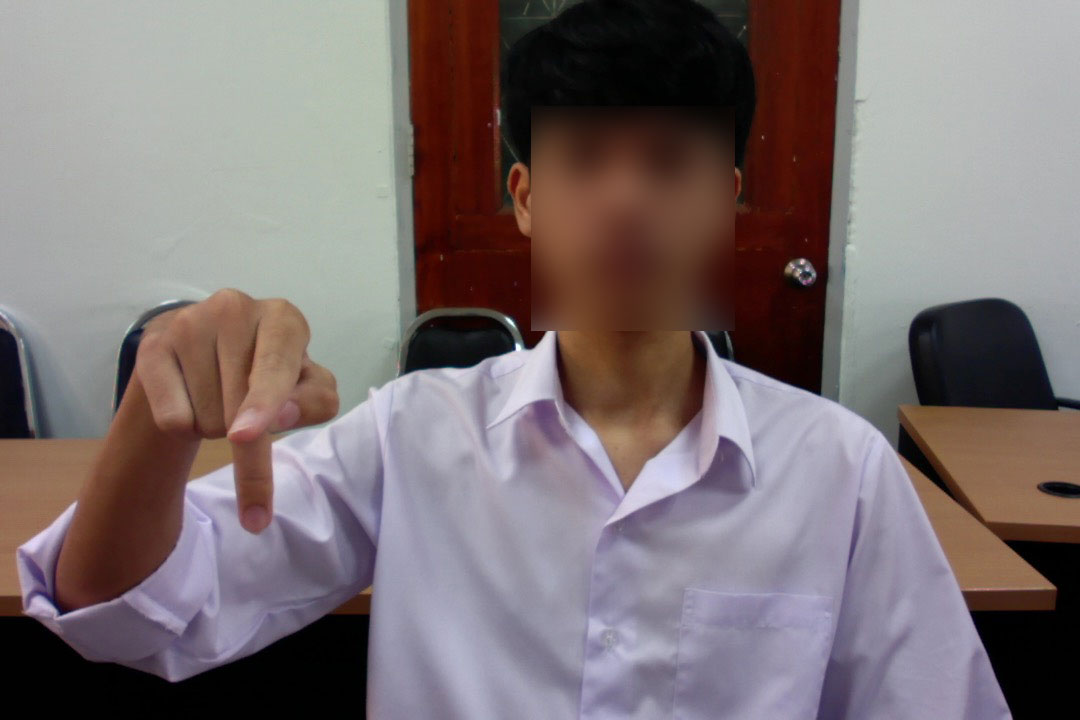por: (133, 273, 347, 542)
